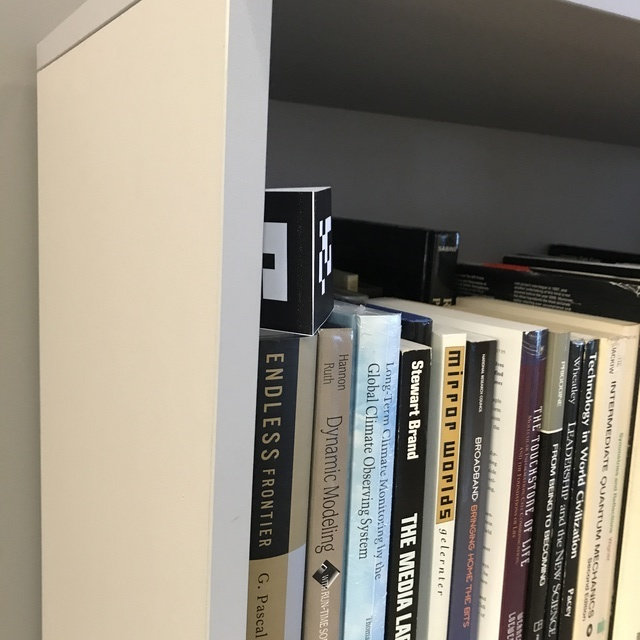ARTag: (259, 185, 334, 336)
